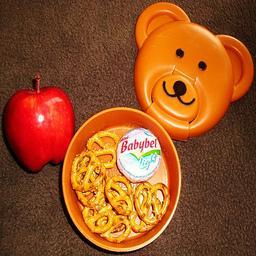apple: (1, 80, 75, 172)
